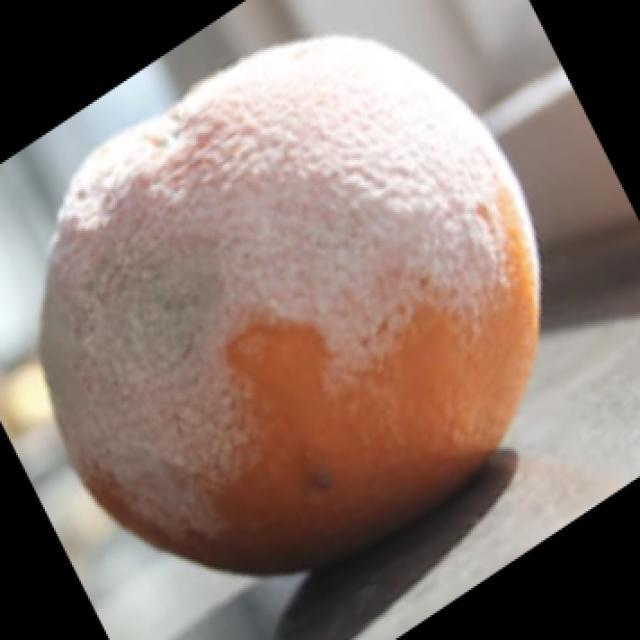sangat-busuk: (43, 37, 537, 572)
